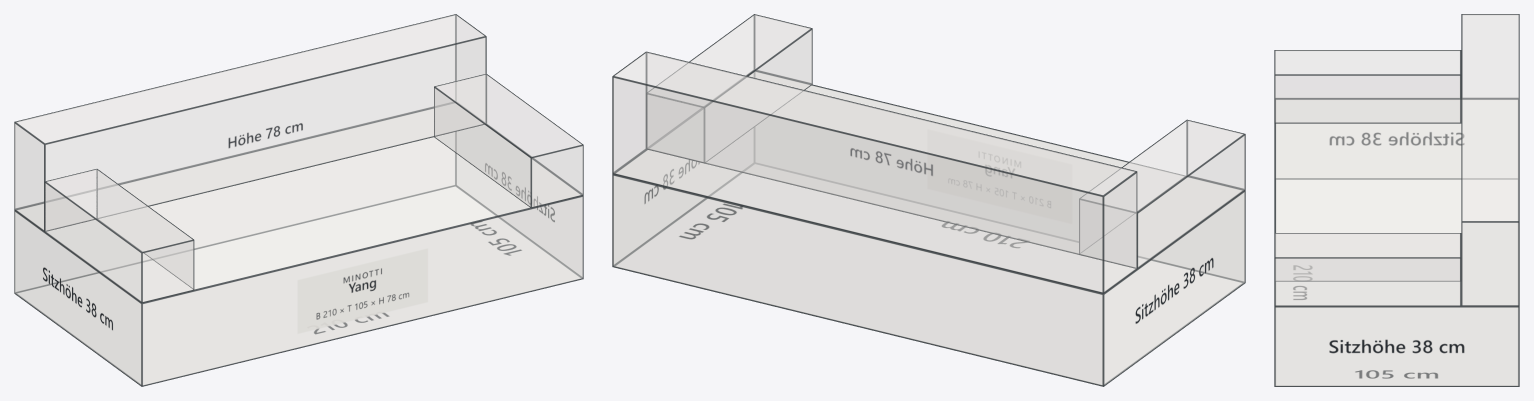
Rendered from sofas-yang--sofa-210-cm.glb.
3 views of the same model, side by side, from view 1: azimuth 30°, elevation 25°; view 2: azimuth 150°, elevation 25°; view 3: azimuth 270°, elevation 25° (orthographic). The views are drawn at different scales.
Parts seen in each view (by area): view 1: sitz_oben, Grundflaeche, ruecken_vorne, sitz_vorne, ruecken_hinten, sitz_hinten, ruecken_oben, sitz_links, sitz_rechts, arm_links_oben, arm_rechts_oben, arm_links_links (+9 smaller); view 2: Grundflaeche, sitz_oben, ruecken_hinten, ruecken_vorne, sitz_hinten, sitz_vorne, ruecken_oben, sitz_links, sitz_rechts, arm_links_links, arm_links_oben, arm_rechts_oben (+9 smaller); view 3: sitz_oben, Grundflaeche, sitz_rechts, sitz_links, ruecken_oben, arm_links_rechts, arm_rechts_rechts, arm_links_links, arm_rechts_links, ruecken_rechts, ruecken_links, arm_links_oben (+1 smaller).
Part boxes in pixels (x1,y1,x2,y2): sitz_oben: (16, 103, 581, 301); Grundflaeche: (15, 185, 582, 385); ruecken_vorne: (44, 36, 486, 231); sitz_vorne: (141, 195, 583, 386); ruecken_hinten: (15, 14, 456, 209); sitz_hinten: (15, 109, 456, 292); ruecken_oben: (14, 14, 485, 143); sitz_links: (14, 210, 141, 386); sitz_rechts: (456, 125, 582, 277); arm_links_oben: (45, 169, 193, 252); arm_rechts_oben: (434, 73, 583, 157); arm_links_links: (44, 182, 141, 302); Grundflaeche: (614, 163, 1244, 385); sitz_oben: (614, 71, 1243, 291); ruecken_hinten: (612, 76, 1103, 293); ruecken_vorne: (646, 52, 1136, 268); sitz_hinten: (612, 174, 1103, 386); sitz_vorne: (754, 72, 1244, 282); ruecken_oben: (613, 51, 1136, 195); sitz_links: (1103, 190, 1245, 386); sitz_rechts: (614, 73, 753, 264); arm_links_links: (1137, 134, 1245, 268); arm_links_oben: (1079, 119, 1244, 212); arm_rechts_oben: (647, 14, 812, 106); sitz_oben: (1274, 98, 1518, 305); Grundflaeche: (1275, 179, 1518, 385); sitz_rechts: (1274, 306, 1519, 386); sitz_links: (1276, 100, 1517, 178); ruecken_oben: (1461, 14, 1519, 221); arm_links_rechts: (1274, 74, 1461, 123); arm_rechts_rechts: (1274, 257, 1461, 306); arm_links_links: (1275, 50, 1459, 98); arm_rechts_links: (1275, 233, 1459, 281); ruecken_rechts: (1461, 221, 1519, 306); ruecken_links: (1462, 14, 1518, 98); arm_links_oben: (1274, 50, 1461, 74).
Bounding box in the file's own units: 2.1 × 0.78 × 1.05.
21 materials, 21 textured.
